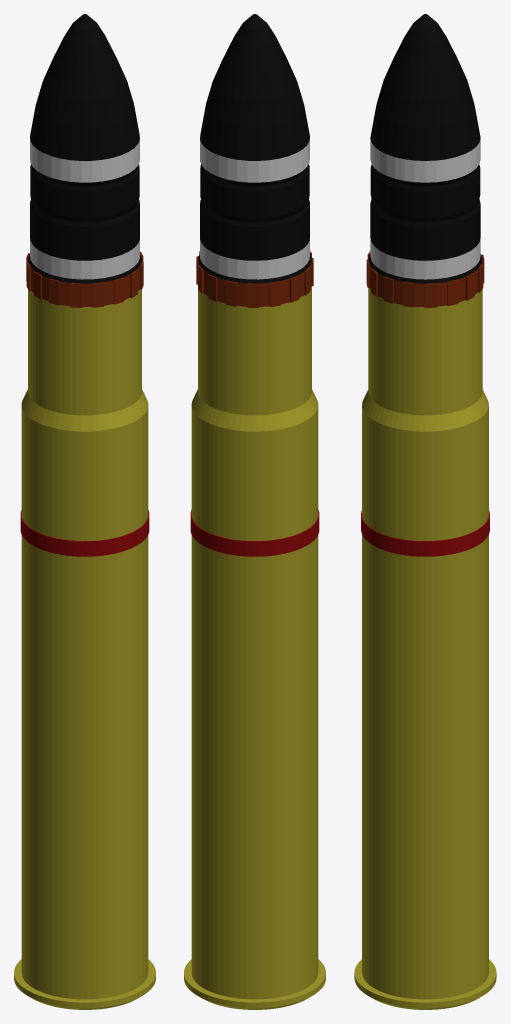
Rendered from bala2.obj.
The picture shows the model from 3 angles, left to right: view 1: azimuth 30°, elevation 25°; view 2: azimuth 150°, elevation 25°; view 3: azimuth 270°, elevation 25°; orthographic projection.
Visible parts, largest first — view 1: Circle.011_Circle.016, Circle.012_Circle.017; view 2: Circle.011_Circle.016, Circle.012_Circle.017; view 3: Circle.011_Circle.016, Circle.012_Circle.017.
Boxes of the visible parts, left/top/right/bottom form: Circle.011_Circle.016: left=14, top=289, right=155, bottom=1009; Circle.012_Circle.017: left=26, top=14, right=143, bottom=307; Circle.011_Circle.016: left=184, top=286, right=325, bottom=1009; Circle.012_Circle.017: left=196, top=14, right=313, bottom=307; Circle.011_Circle.016: left=354, top=288, right=496, bottom=1009; Circle.012_Circle.017: left=366, top=14, right=484, bottom=307.
Bounding box in the file's own units: 0.5989 × 4.5 × 0.5989.
